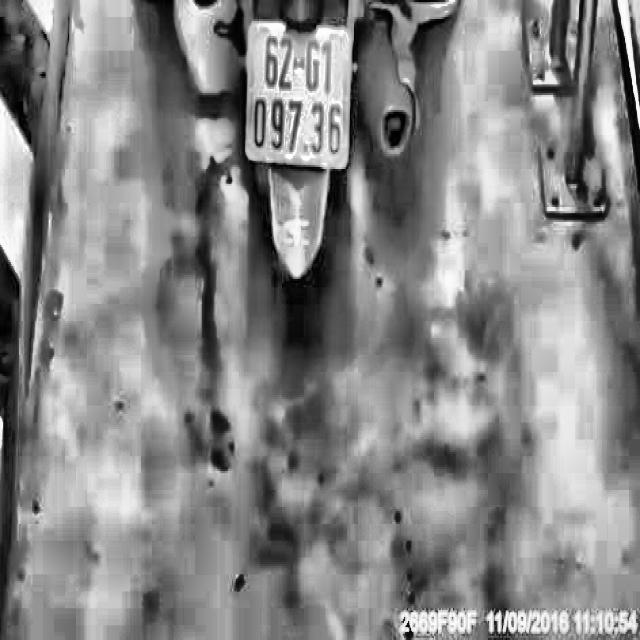plate: (244, 15, 354, 178)
